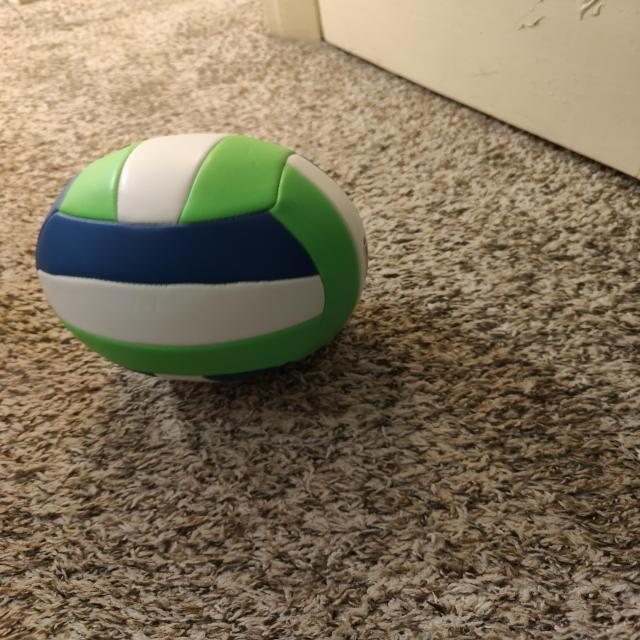ball: (41, 133, 356, 382)
